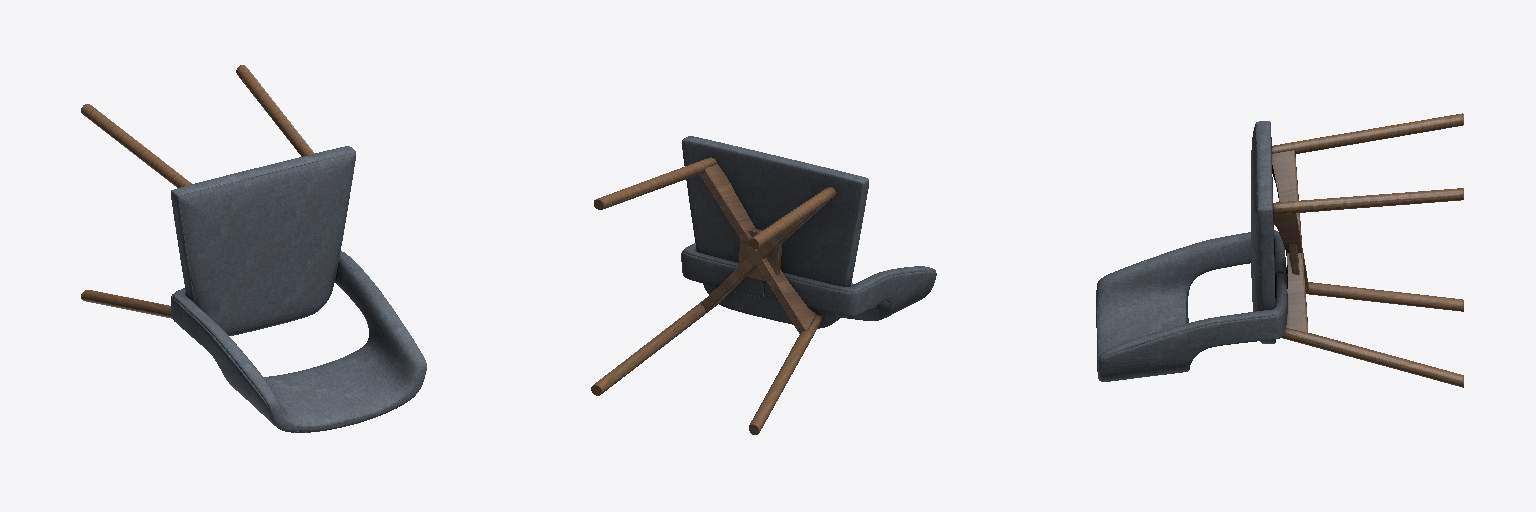
3 views of the same model, side by side, from view 1: azimuth 30°, elevation 25°; view 2: azimuth 150°, elevation 25°; view 3: azimuth 270°, elevation 25° (orthographic).
Bounding box in the file's own units: 0.4944 × 0.5472 × 0.8688.
1 materials, 1 textured.